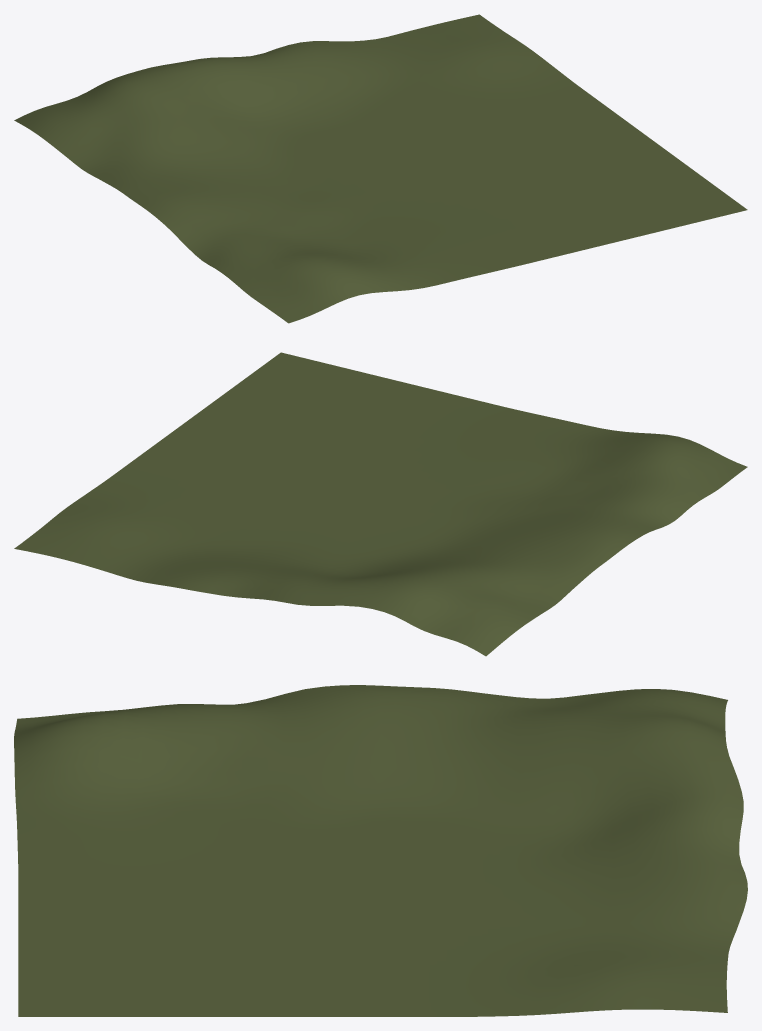
The model's file is ground.fbx.
The picture shows the model from 3 angles, top to bottom: view 1: azimuth 30°, elevation 25°; view 2: azimuth 150°, elevation 25°; view 3: azimuth 270°, elevation 25°; orthographic projection. The views are drawn at different scales.
Parts seen in each view (by area): view 1: GroundWithHills; view 2: GroundWithHills; view 3: GroundWithHills.
Part boxes in pixels (x1,y1,x2,y2): GroundWithHills: [14, 14, 747, 323]; GroundWithHills: [14, 352, 747, 656]; GroundWithHills: [14, 685, 747, 1016].
Size of the model in its own units: 510 by 515 by 39.69.
